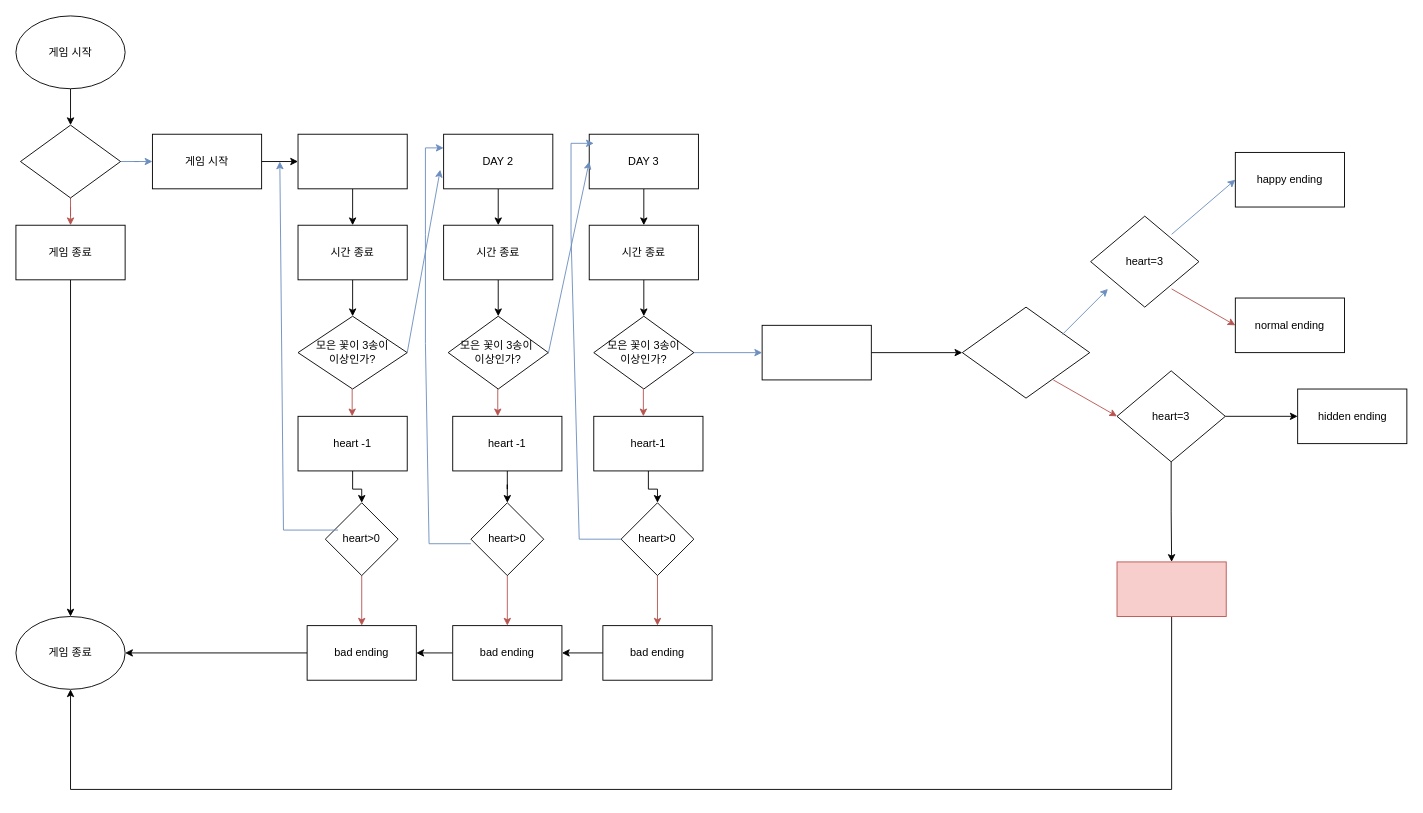
This 1423x813 diagram has some shape labels left out. The centre of each missing label's shape, as x and y in pixels:
bad ending dead: the point at 1171,589
DAY 1: the point at 352,161
게임 시작 메뉴: the point at 70,161
달맞이 꽃을 찾았는가?: the point at 1025,352
마지막 분기점: the point at 816,352
